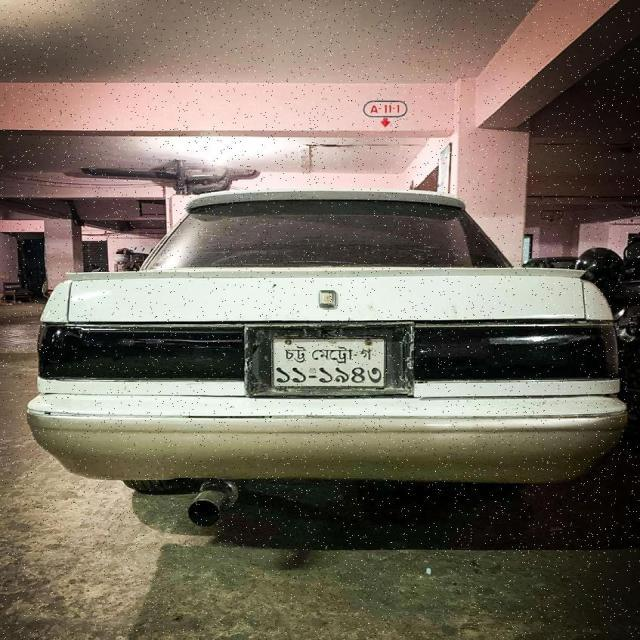numberplate: (270, 333, 387, 390)
